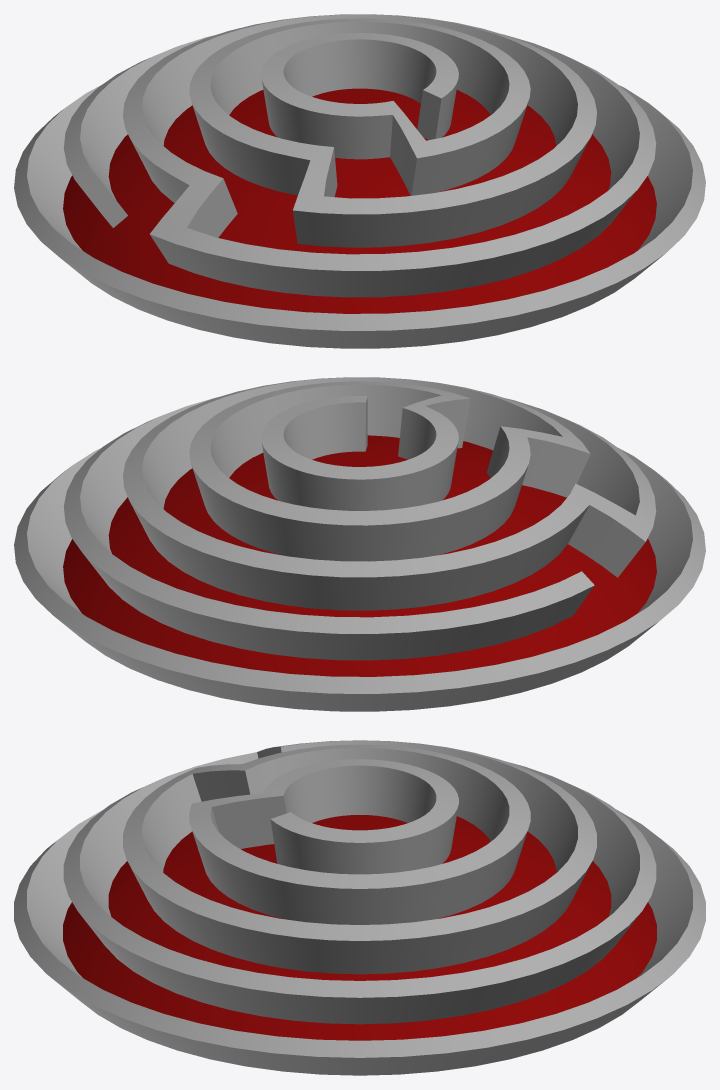
Rendered from sm_circularMaze.fbx.
3 views of the same model, one above another, from view 1: azimuth 30°, elevation 25°; view 2: azimuth 150°, elevation 25°; view 3: azimuth 270°, elevation 25° (orthographic).
Visible parts, largest first — view 1: pSphere1; view 2: pSphere1; view 3: pSphere1.
Part boxes in pixels (box(x1,y1,x2,y2)): pSphere1: box(14, 14, 705, 348); pSphere1: box(14, 377, 705, 711); pSphere1: box(14, 740, 705, 1075).
Size of the model in its own units: 1649 by 384 by 1646.
